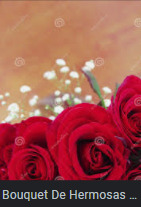RedRose: (47, 102, 127, 179), (0, 112, 60, 180), (107, 73, 141, 152)
